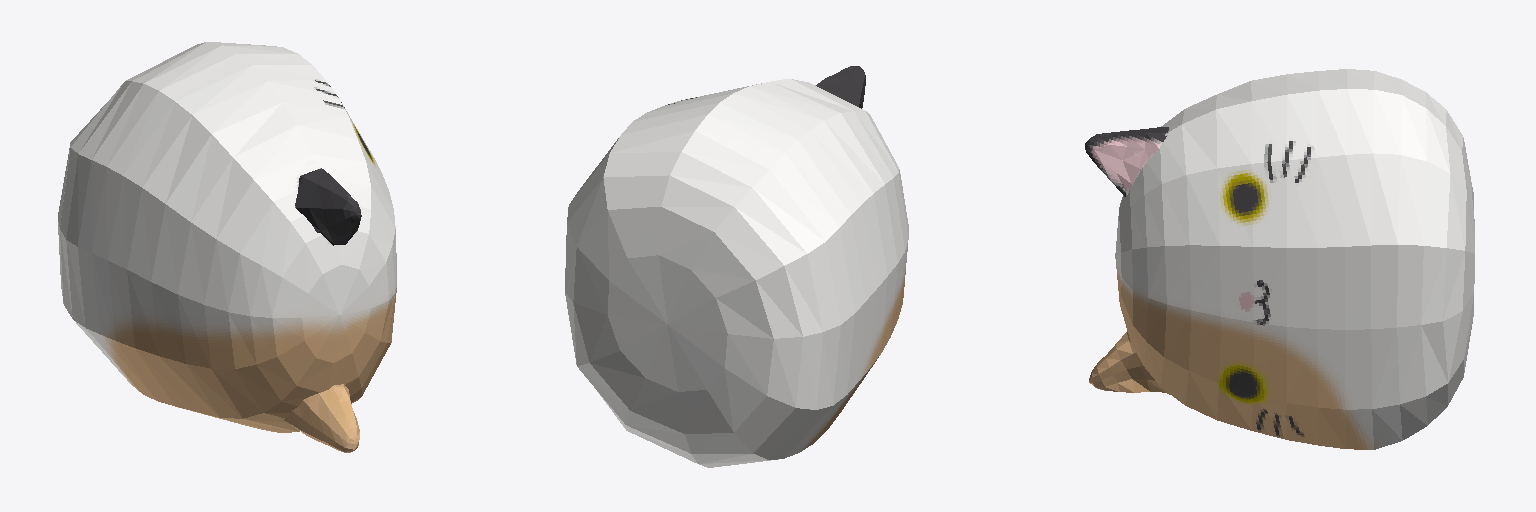
The picture shows the model from 3 angles: view 1: azimuth 30°, elevation 25°; view 2: azimuth 150°, elevation 25°; view 3: azimuth 270°, elevation 25°; orthographic projection.
Visible parts, largest first — view 1: RetopoGroup1_ear; view 2: RetopoGroup1_ear; view 3: RetopoGroup1_ear.
Boxes of the visible parts, <box> form: RetopoGroup1_ear: <box>58,42,396,452</box>; RetopoGroup1_ear: <box>565,66,908,467</box>; RetopoGroup1_ear: <box>1085,69,1474,449</box>.
Size of the model in its own units: 31.15 by 39.07 by 39.7.
2 materials, 1 textured.